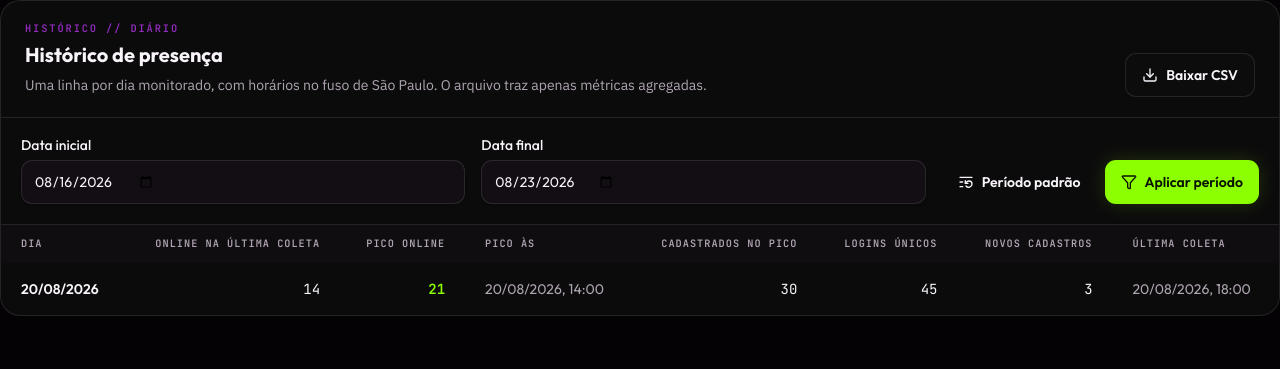
Test: PresenceHistory › validates date order before applying a new range
Expected: the table named "Histórico diário de presença" is shown, [1,225,1279,315]
In the date field labelled "Data inicial": (243, 182) [21,160,465,204], type "2026-08-25"
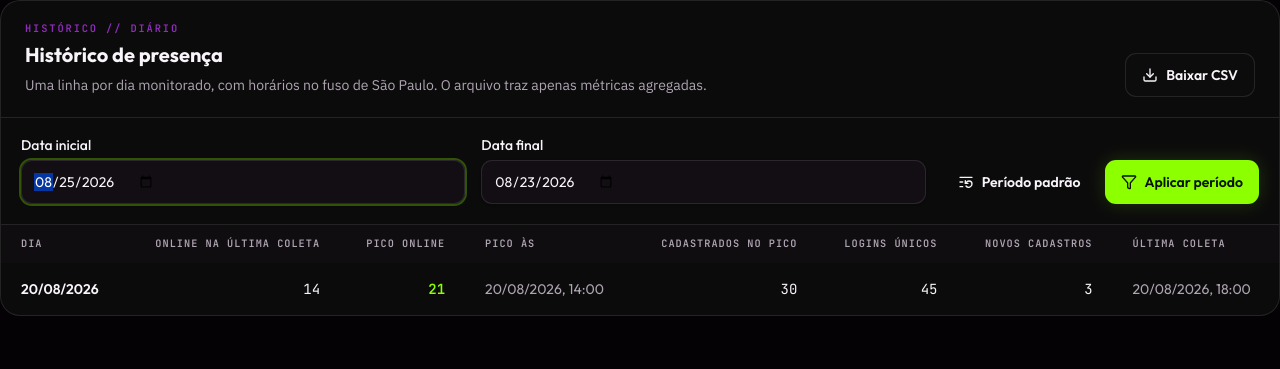
Click the button "Aplicar período": (1182, 182) [1104,160,1259,204]
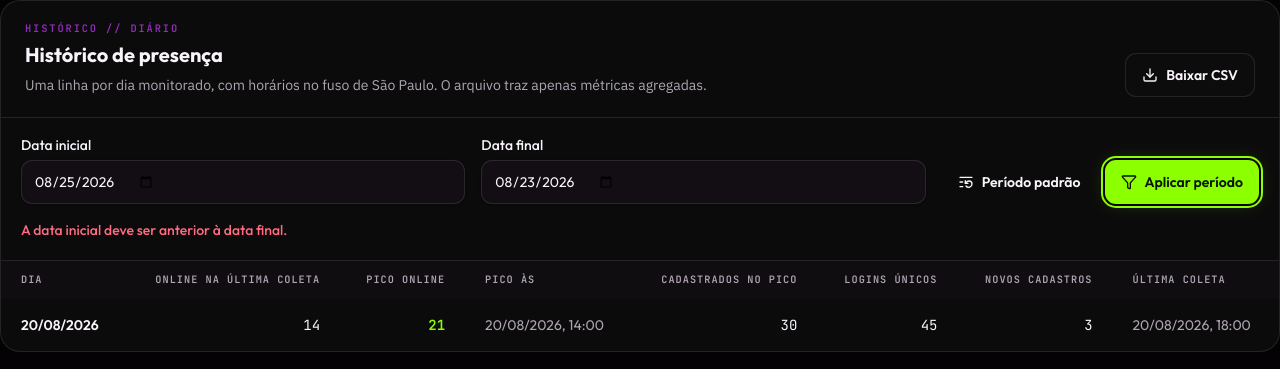
Expected: the message reads "A data inicial deve ser anterior à data final.", [21,221,287,239]
